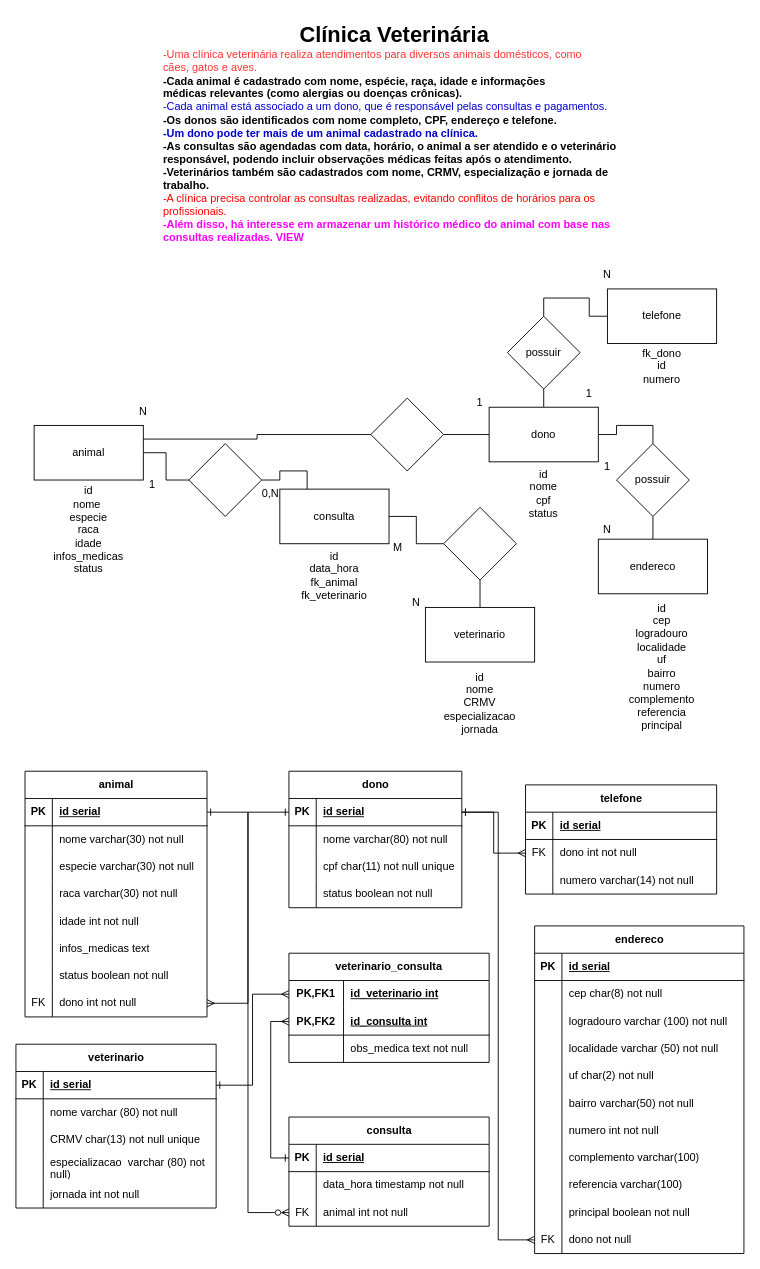
The diagram is 760 pixels wide and 1269 high, and some of its shapes have lost their labels. Here are the shapes that lost their labels. From the top down, the centre of each, then its label:
At point 407,434: "ter".
At point 225,479: "receber".
At point 479,543: "faz".
